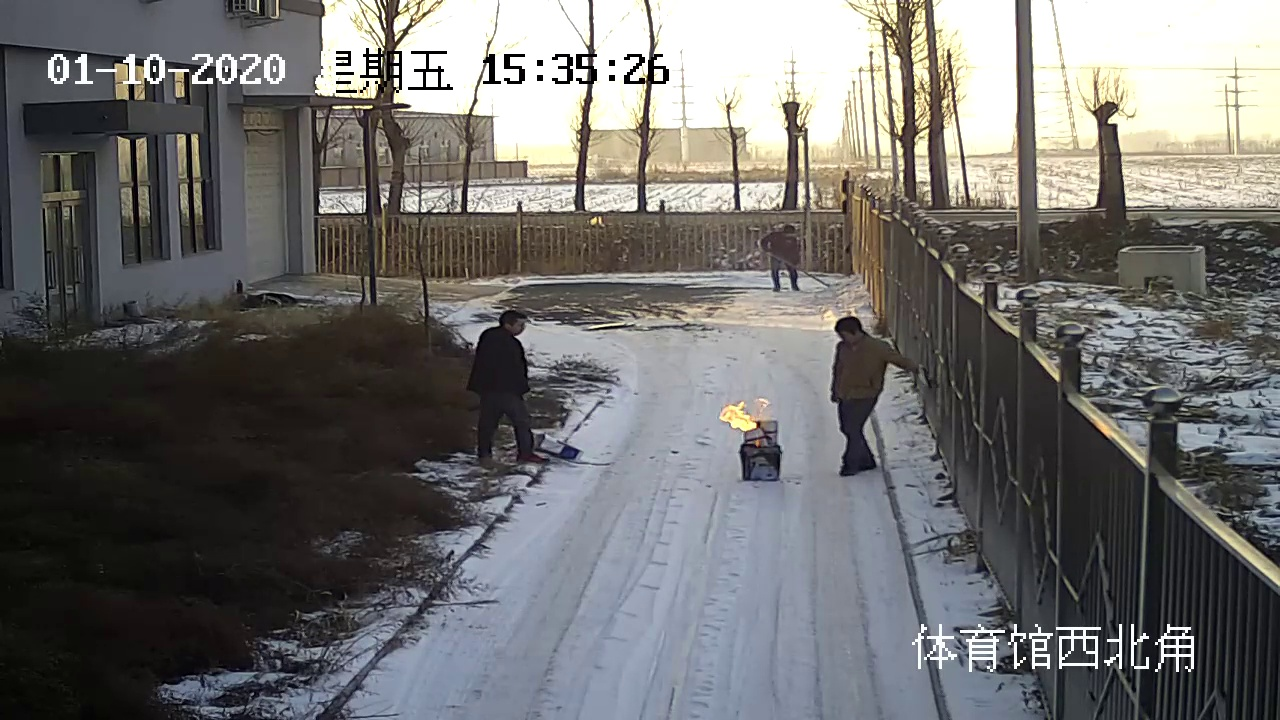fire: (723, 397, 766, 431)
